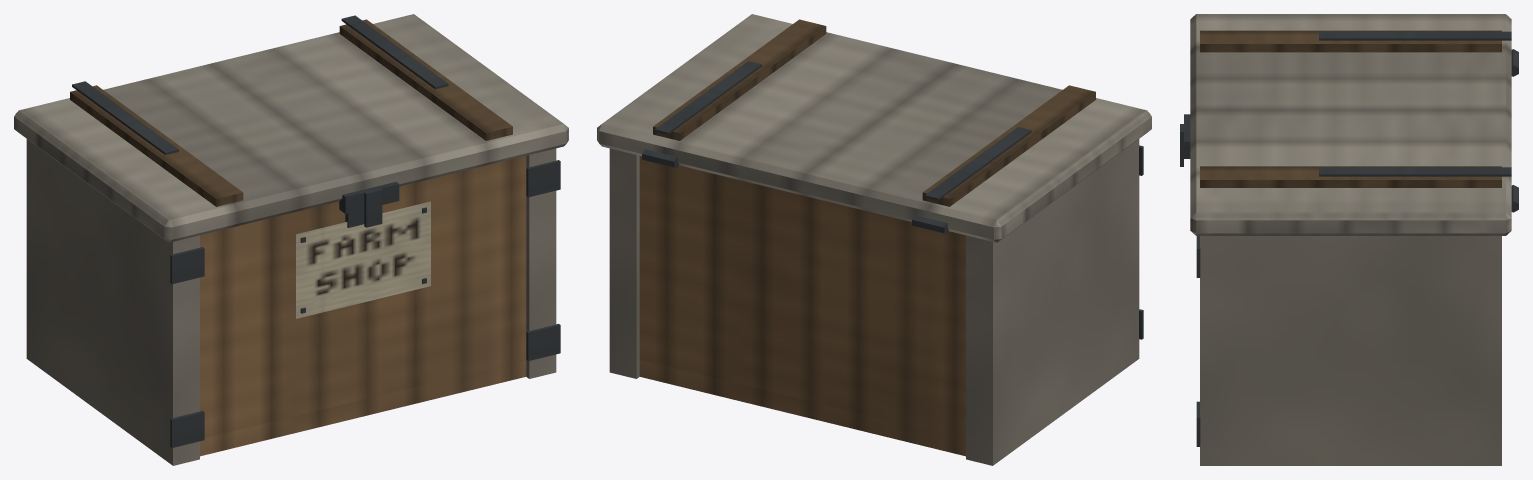
The model's file is shipping_bin.obj.
The picture shows the model from 3 angles, left to right: view 1: azimuth 30°, elevation 25°; view 2: azimuth 150°, elevation 25°; view 3: azimuth 270°, elevation 25°; orthographic projection. The views are drawn at different scales.
Parts seen in each view (by area): view 1: shipping_bin, shipping_bin_lid; view 2: shipping_bin, shipping_bin_lid; view 3: shipping_bin_lid, shipping_bin.
Boxes of the visible parts, x1,y1,x2,y2 form: shipping_bin: (26,139,560,465); shipping_bin_lid: (14,14,568,242); shipping_bin: (609,139,1143,465); shipping_bin_lid: (597,14,1151,242); shipping_bin_lid: (1180,14,1518,235); shipping_bin: (1196,236,1501,465).
Size of the model in its own units: 1.5 by 0.916 by 1.05.
Materials: 1 (1 with a texture image).
